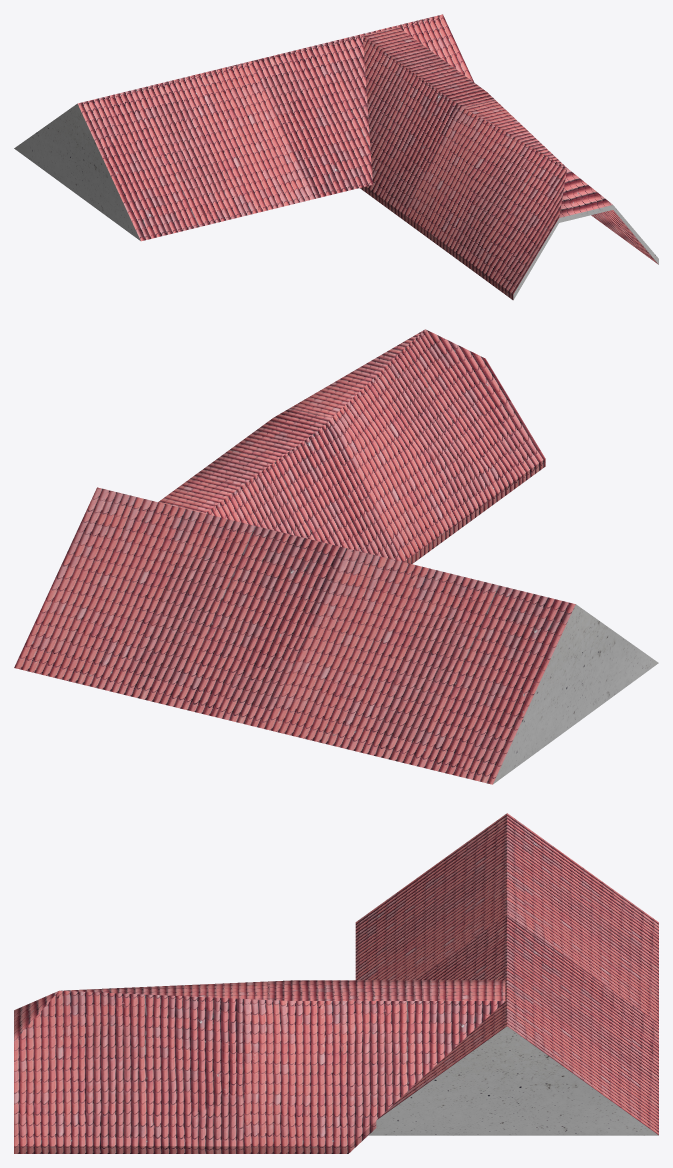
The model's file is techo.FBX.
3 renders of one model, top to bottom at view 1: azimuth 30°, elevation 25°; view 2: azimuth 150°, elevation 25°; view 3: azimuth 270°, elevation 25°, orthographic. The views are drawn at different scales.
Visible parts, largest first — view 1: Techo; view 2: Techo; view 3: Techo.
Part boxes in pixels (left/top/right/bottom): Techo: left=14, top=14, right=658, bottom=300; Techo: left=14, top=329, right=658, bottom=784; Techo: left=14, top=813, right=658, bottom=1153.
Bounding box in the file's own units: 168 × 43.68 × 209.
Materials: 1 (1 with a texture image).
